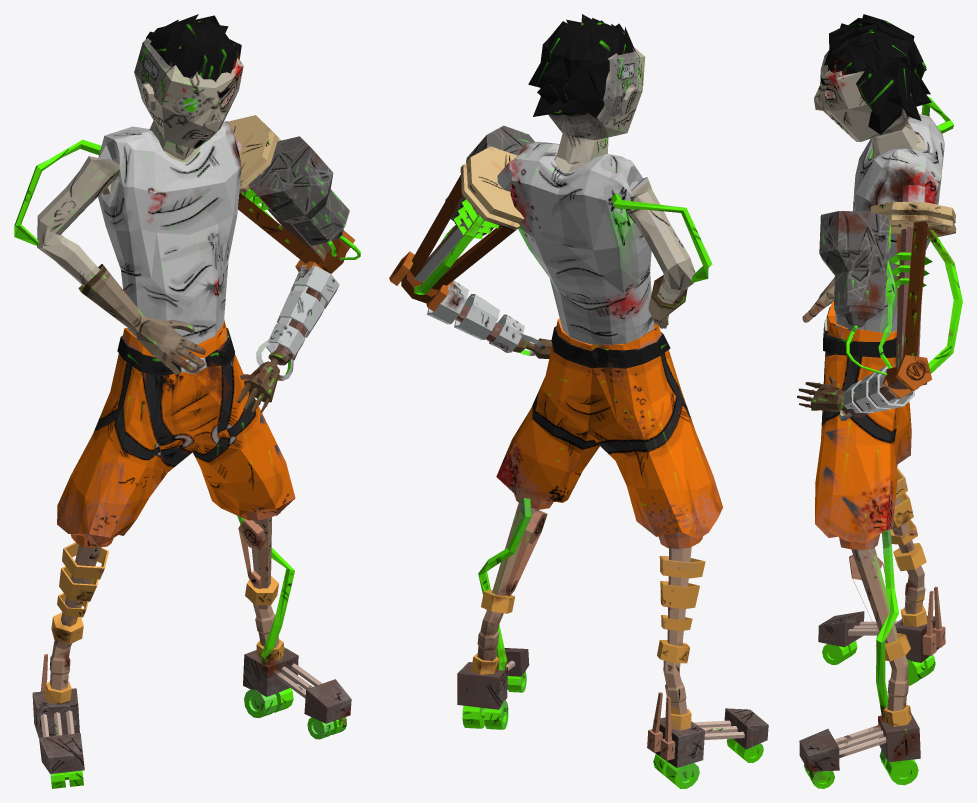
Rendered from CyborgFINALAnimation_000022.obj.
3 renders of one model, left to right at view 1: azimuth 30°, elevation 25°; view 2: azimuth 150°, elevation 25°; view 3: azimuth 270°, elevation 25°, orthographic. The views are drawn at different scales.
Parts seen in each view (by area): view 1: CyborgMesh_Cube.002; view 2: CyborgMesh_Cube.002; view 3: CyborgMesh_Cube.002.
Part boxes in pixels (x1,y1,x2,y2): CyborgMesh_Cube.002: (14, 14, 360, 788); CyborgMesh_Cube.002: (389, 14, 768, 788); CyborgMesh_Cube.002: (797, 14, 962, 788).
Bounding box in the file's own units: 4.73 × 9.59 × 2.02.
